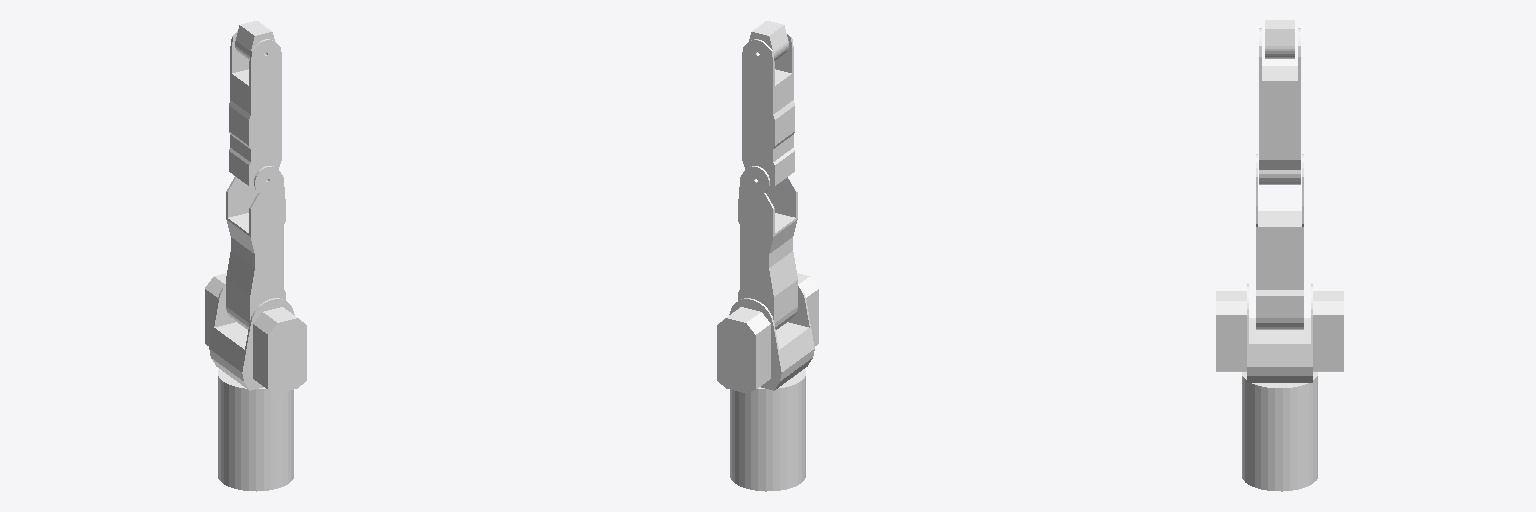
URDF robot description (abot):
<robot
  name="abot">
  <link
    name="base_link">
    <inertial>
      <origin
        xyz="-1.90952880729762E-18 1.3542876930355E-17 0.1105"
        rpy="0 0 0" />
      <mass
        value="3.90539236749381" />
      <inertia
        ixx="0"
        ixy="0"
        ixz="0"
        iyy="0"
        iyz="0"
        izz="0" />
    </inertial>
    <visual>
      <origin
        xyz="0 0 0"
        rpy="0 0 0" />
      <geometry>
        <mesh
          filename="package://abot/meshes/base_link.STL" />
      </geometry>
      <material
        name="">
        <color
          rgba="1 1 1 1" />
      </material>
    </visual>
    <collision>
      <origin
        xyz="0 0 0"
        rpy="0 0 0" />
      <geometry>
        <mesh
          filename="package://abot/meshes/base_link.STL" />
      </geometry>
    </collision>
  </link>
  <link
    name="Link1">
    <inertial>
      <origin
        xyz="2.13057230094622E-15 2.99137214934511E-17 0.0687512874171186"
        rpy="0 0 0" />
      <mass
        value="3.02019947316584" />
      <inertia
        ixx="0"
        ixy="0"
        ixz="0"
        iyy="0"
        iyz="0"
        izz="0" />
    </inertial>
    <visual>
      <origin
        xyz="0 0 0"
        rpy="0 0 0" />
      <geometry>
        <mesh
          filename="package://abot/meshes/Link1.STL" />
      </geometry>
      <material
        name="">
        <color
          rgba="1 1 1 1" />
      </material>
    </visual>
    <collision>
      <origin
        xyz="0 0 0"
        rpy="0 0 0" />
      <geometry>
        <mesh
          filename="package://abot/meshes/Link1.STL" />
      </geometry>
    </collision>
  </link>
  <joint
    name="Joint0"
    type="revolute">
    <origin
      xyz="0 0 0.221"
      rpy="0 0 0" />
    <parent
      link="base_link" />
    <child
      link="Link1" />
    <axis
      xyz="0 0 1" />
    <limit
      lower="-1.9195"
      upper="3.3155"
      effort="0"
      velocity="0" />
  </joint>
  <link
    name="Link2">
    <inertial>
      <origin
        xyz="0.000279515072636538 -1.66807252391632E-17 0.0862326561238999"
        rpy="0 0 0" />
      <mass
        value="1.64927872299093" />
      <inertia
        ixx="0"
        ixy="0"
        ixz="0"
        iyy="0"
        iyz="0"
        izz="0" />
    </inertial>
    <visual>
      <origin
        xyz="0 0 0"
        rpy="0 0 0" />
      <geometry>
        <mesh
          filename="package://abot/meshes/Link2.STL" />
      </geometry>
      <material
        name="">
        <color
          rgba="1 1 1 1" />
      </material>
    </visual>
    <collision>
      <origin
        xyz="0 0 0"
        rpy="0 0 0" />
      <geometry>
        <mesh
          filename="package://abot/meshes/Link2.STL" />
      </geometry>
    </collision>
  </link>
  <joint
    name="Joint1"
    type="revolute">
    <origin
      xyz="0 0 0.135"
      rpy="0 0 0" />
    <parent
      link="Link1" />
    <child
      link="Link2" />
    <axis
      xyz="0 1 0" />
    <limit
      lower="-1.5705"
      upper="1.5705"
      effort="0"
      velocity="0" />
  </joint>
  <link
    name="Link3">
    <inertial>
      <origin
        xyz="-0.00079888383472044 5.14283105396046E-17 0.100778552819381"
        rpy="0 0 0" />
      <mass
        value="1.35494116353223" />
      <inertia
        ixx="0"
        ixy="0"
        ixz="0"
        iyy="0"
        iyz="0"
        izz="0" />
    </inertial>
    <visual>
      <origin
        xyz="0 0 0"
        rpy="0 0 0" />
      <geometry>
        <mesh
          filename="package://abot/meshes/Link3.STL" />
      </geometry>
      <material
        name="">
        <color
          rgba="1 1 1 1" />
      </material>
    </visual>
    <collision>
      <origin
        xyz="0 0 0"
        rpy="0 0 0" />
      <geometry>
        <mesh
          filename="package://abot/meshes/Link3.STL" />
      </geometry>
    </collision>
  </link>
  <joint
    name="Joint2"
    type="revolute">
    <origin
      xyz="0 0 0.3"
      rpy="0 0 0" />
    <parent
      link="Link2" />
    <child
      link="Link3" />
    <axis
      xyz="0 1 0" />
    <limit
      lower="-2.2685"
      upper="2.2685"
      effort="0"
      velocity="0" />
  </joint>
  <link
    name="Link4">
    <inertial>
      <origin
        xyz="8.04251465480555E-16 -2.89131865764829E-18 0.00612823968353227"
        rpy="0 0 0" />
      <mass
        value="0.195128541649602" />
      <inertia
        ixx="0"
        ixy="0"
        ixz="0"
        iyy="0"
        iyz="0"
        izz="0" />
    </inertial>
    <visual>
      <origin
        xyz="0 0 0"
        rpy="0 0 0" />
      <geometry>
        <mesh
          filename="package://abot/meshes/Link4.STL" />
      </geometry>
      <material
        name="">
        <color
          rgba="1 1 1 1" />
      </material>
    </visual>
    <collision>
      <origin
        xyz="0 0 0"
        rpy="0 0 0" />
      <geometry>
        <mesh
          filename="package://abot/meshes/Link4.STL" />
      </geometry>
    </collision>
  </link>
  <joint
    name="Joint3"
    type="revolute">
    <origin
      xyz="0 0 0.27"
      rpy="0 0 0" />
    <parent
      link="Link3" />
    <child
      link="Link4" />
    <axis
      xyz="0 1 0" />
    <limit
      lower="-1.5705"
      upper="1.5705"
      effort="0"
      velocity="0" />
  </joint>
</robot>

--- What the picture shows (computed from the rendered views, not written in the file) ---
Views: 3 orthographic renders of the robot side by side, from view 1: azimuth 30°, elevation 25°; view 2: azimuth 150°, elevation 25°; view 3: azimuth 270°, elevation 25°.
Robot: abot — 5 links, 4 joints (4 revolute); root link base_link; default pose: every joint at zero.
Visible links, largest first — view 1: Link1, base_link, Link2, Link3, Link4; view 2: Link1, base_link, Link2, Link3, Link4; view 3: Link1, base_link, Link2, Link3, Link4.
Boxes of the visible links, x1=… form: Link1: x1=205, y1=273, x2=306, y2=392; base_link: x1=218, y1=369, x2=293, y2=491; Link2: x1=226, y1=166, x2=285, y2=329; Link3: x1=229, y1=31, x2=281, y2=189; Link4: x1=235, y1=21, x2=274, y2=60; Link1: x1=717, y1=273, x2=818, y2=392; base_link: x1=730, y1=369, x2=805, y2=491; Link2: x1=738, y1=166, x2=797, y2=329; Link3: x1=742, y1=31, x2=794, y2=190; Link4: x1=749, y1=21, x2=788, y2=60; Link1: x1=1216, y1=284, x2=1343, y2=382; base_link: x1=1242, y1=372, x2=1317, y2=491; Link2: x1=1256, y1=154, x2=1303, y2=329; Link3: x1=1259, y1=28, x2=1300, y2=184; Link4: x1=1265, y1=20, x2=1294, y2=58.
Size in the robot's own frame: 0.1497 by 0.25 by 0.966 metres.
5 mesh visuals loaded from 5 distinct referenced files (5 binary STL).